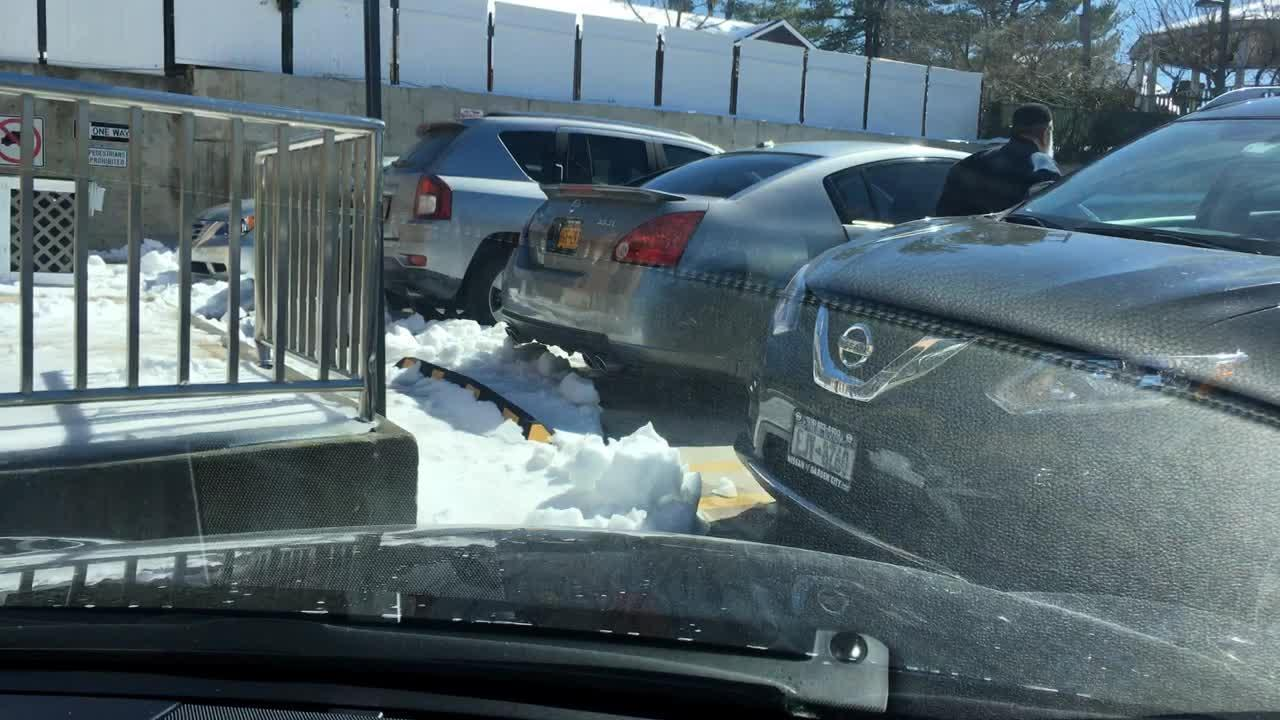Nissan: (832, 317, 879, 382)
